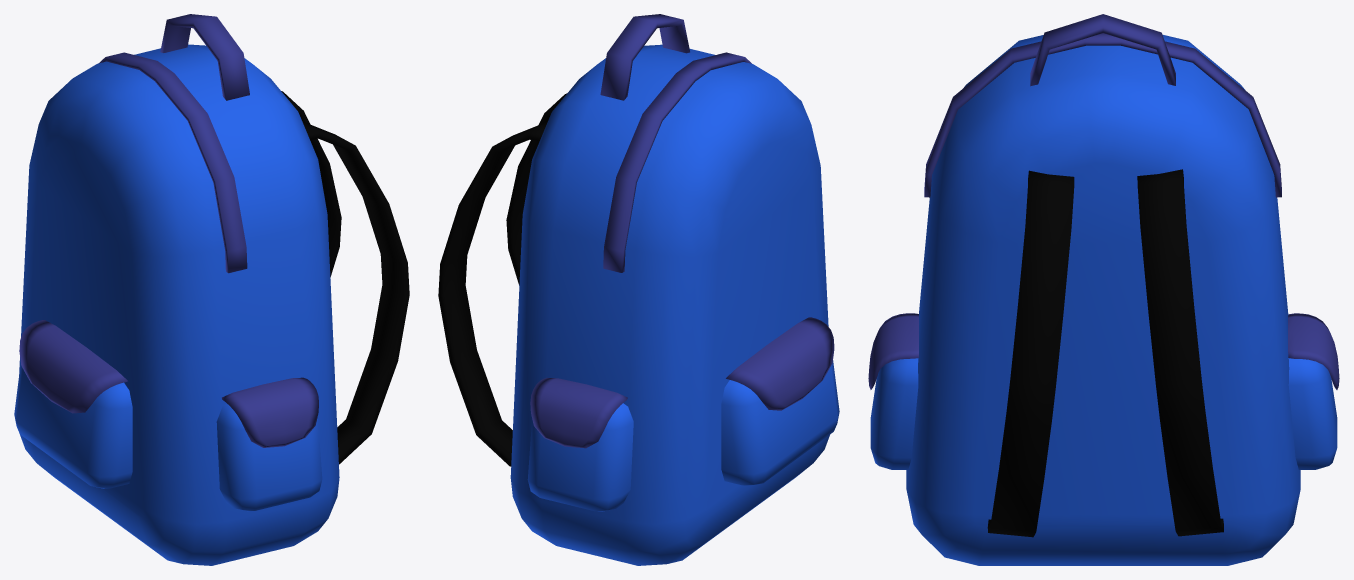
The model's file is MochilaAzul (1).fbx.
3 renders of one model, left to right at view 1: azimuth 30°, elevation 25°; view 2: azimuth 150°, elevation 25°; view 3: azimuth 270°, elevation 25°, orthographic. The views are drawn at different scales.
Visible parts, largest first — view 1: Cube.004, Circle.002, Cube.005, Cube.007, Cube.006, Circle, Cube.008, Circle.003, Circle.001; view 2: Cube.004, Circle.001, Cube.005, Cube.009, Cube.006, Circle, Cube.010, Circle.003, Circle.002; view 3: Cube.004, Circle.001, Circle.002, Circle, Cube.009, Cube.007, Circle.003, Cube.010, Cube.008.
Part boxes in pixels (<box>): Cube.004: <box>19,44,339,565</box>; Circle.002: <box>302,121,409,464</box>; Cube.005: <box>14,362,132,488</box>; Cube.007: <box>216,403,322,511</box>; Cube.006: <box>19,320,127,413</box>; Circle: <box>98,52,247,273</box>; Cube.008: <box>222,377,318,447</box>; Circle.003: <box>160,14,249,100</box>; Circle.001: <box>281,91,341,277</box>; Cube.004: <box>510,44,829,565</box>; Circle.001: <box>438,122,547,466</box>; Cube.005: <box>721,360,839,485</box>; Cube.009: <box>527,403,633,511</box>; Cube.006: <box>726,317,834,410</box>; Circle: <box>603,52,751,272</box>; Cube.010: <box>530,377,627,448</box>; Circle.003: <box>600,14,689,100</box>; Circle.002: <box>506,93,566,285</box>; Cube.004: <box>906,35,1300,565</box>; Circle.001: <box>1137,169,1223,536</box>; Circle.002: <box>987,170,1074,537</box>; Circle: <box>924,33,1281,197</box>; Cube.009: <box>1288,358,1337,469</box>; Cube.007: <box>870,358,918,469</box>; Circle.003: <box>1030,14,1175,86</box>; Cube.010: <box>1288,313,1339,389</box>; Cube.008: <box>868,313,918,389</box>.
Size of the model in its own units: 33.84 by 49.29 by 39.56.
